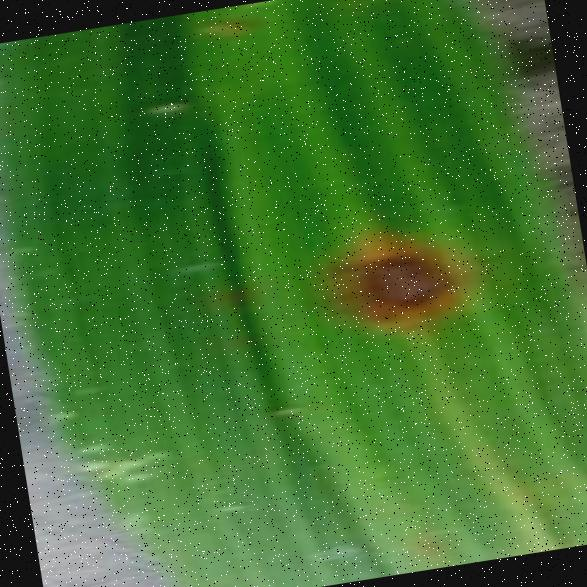Brown_Spot: (308, 218, 478, 352)
